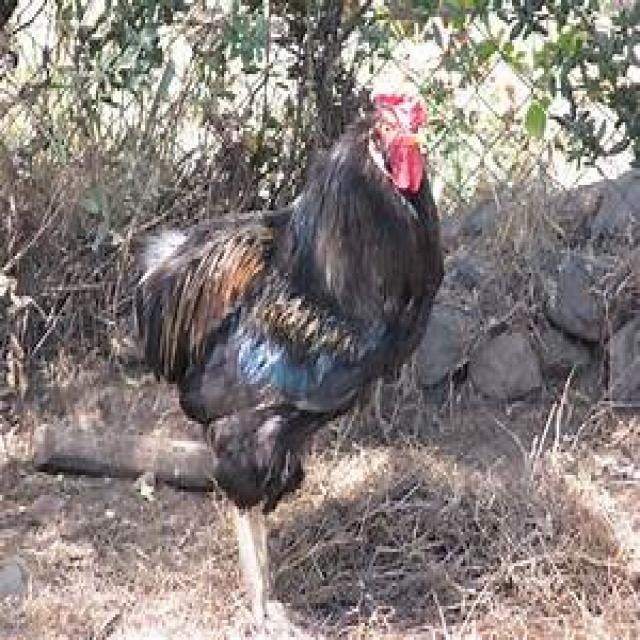chicken: (30, 86, 444, 634)
